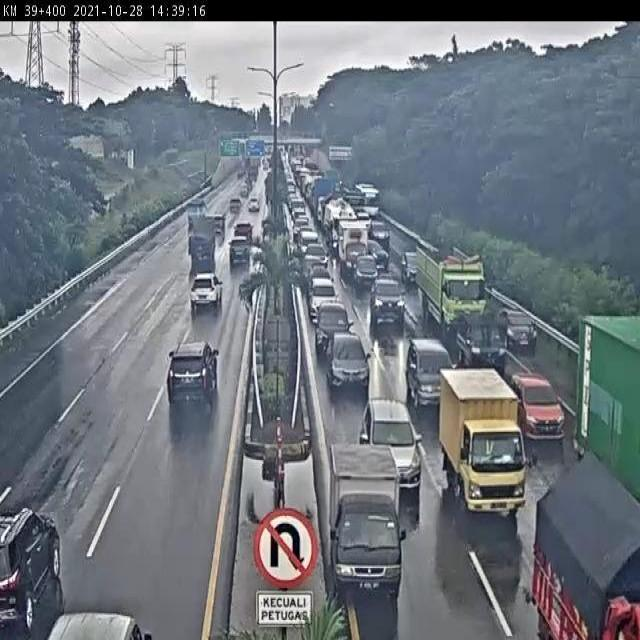big truck: (575, 311, 640, 508), (406, 233, 493, 336)
car: (0, 492, 65, 625), (145, 327, 231, 416), (40, 580, 158, 640), (362, 396, 429, 493), (504, 366, 566, 446), (402, 327, 458, 413), (486, 300, 550, 359), (319, 330, 373, 398), (307, 297, 355, 359), (367, 272, 415, 328), (188, 269, 226, 312), (224, 236, 255, 269), (231, 219, 257, 245)
mid truck: (527, 422, 640, 640), (423, 363, 529, 524), (186, 210, 221, 270)
small truck: (309, 426, 419, 610)
